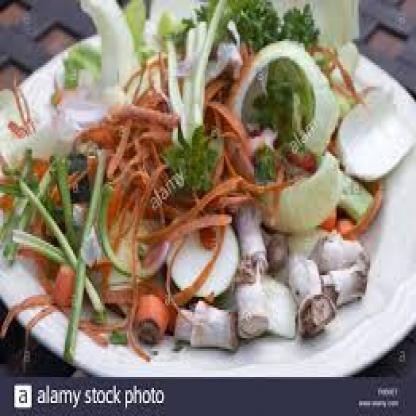Disposable tableware: (5, 4, 416, 390)
